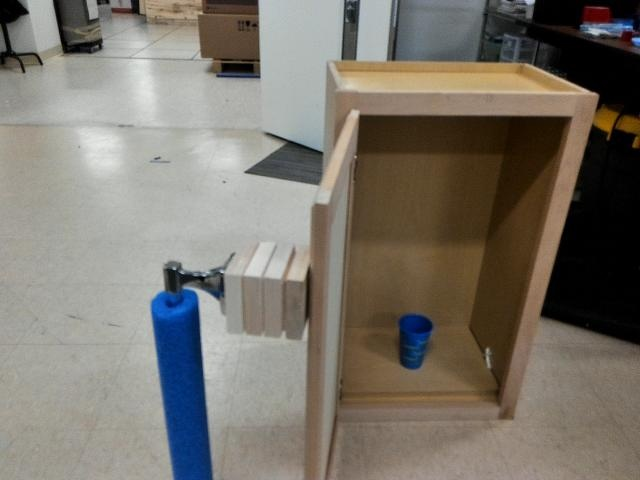noodle_handle: (143, 284, 220, 480)
water_cup: (394, 308, 433, 374)
